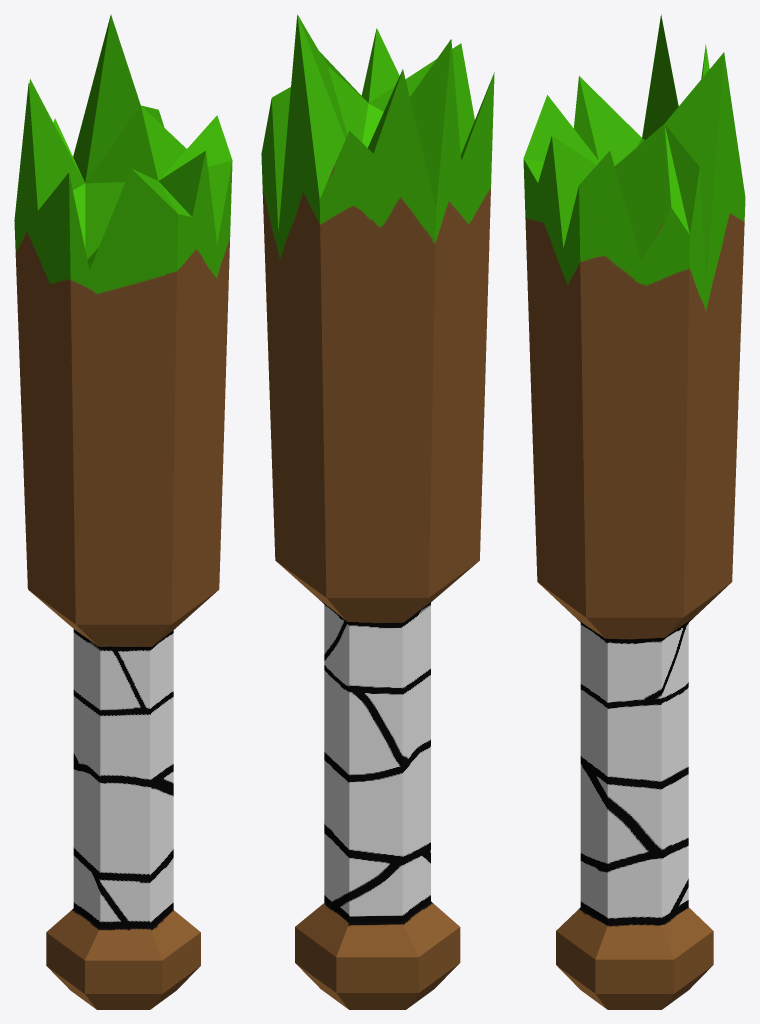
Rendered from Bat-pitch_1.fbx.
3 renders of one model, left to right at view 1: azimuth 30°, elevation 25°; view 2: azimuth 150°, elevation 25°; view 3: azimuth 270°, elevation 25°, orthographic. The views are drawn at different scales.
Parts seen in each view (by area): view 1: bat-pitch; view 2: bat-pitch; view 3: bat-pitch.
Boxes of the visible parts, left/top/right/bottom form: bat-pitch: left=14, top=14, right=232, bottom=1009; bat-pitch: left=261, top=14, right=494, bottom=1009; bat-pitch: left=523, top=14, right=745, bottom=1009.
Size of the model in its own units: 9.43 by 51.64 by 10.89.
